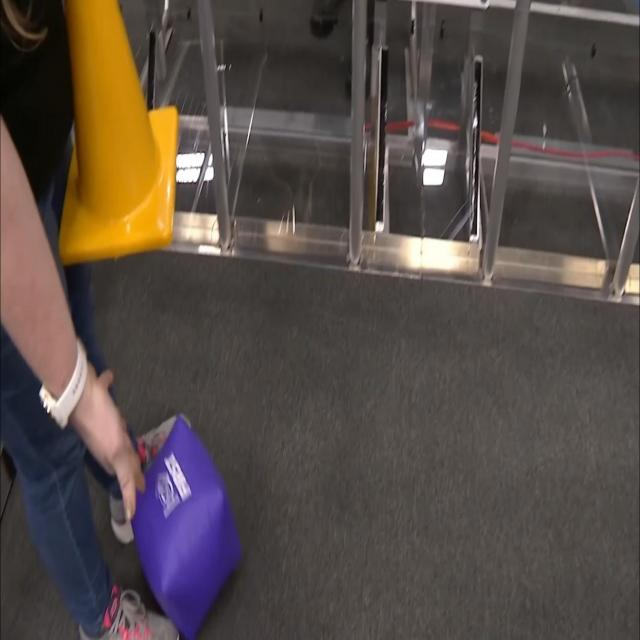frc_cone: (46, 0, 178, 264)
frc_cube: (127, 418, 240, 640)
